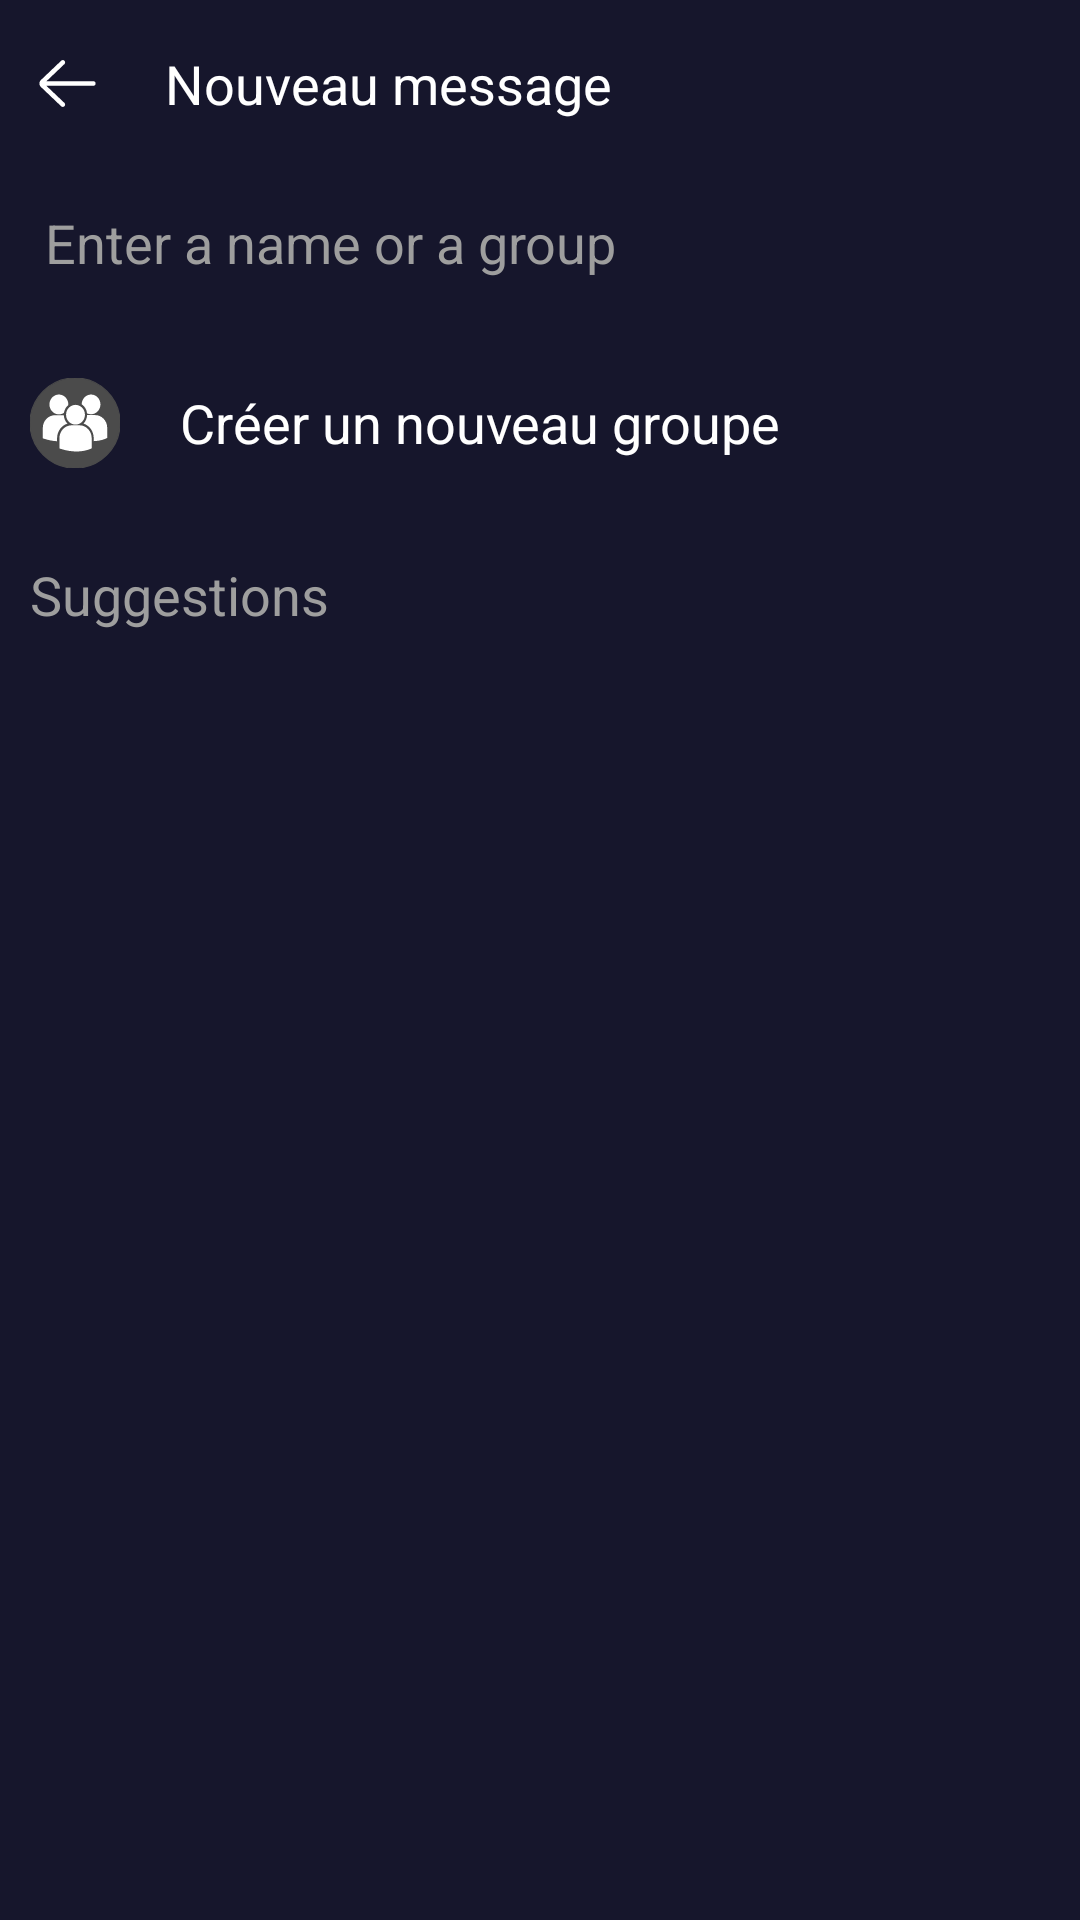

Icon bounding boxes for this 1080px×1920px phone screenshot, format (x1, y1, x2, y2):
left arrow: (39, 60, 96, 107)
